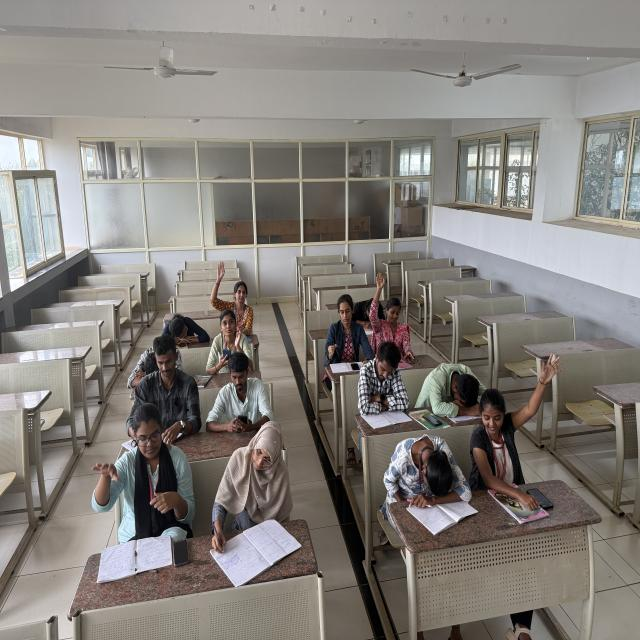Hand Rising: (473, 333, 581, 476), (208, 248, 268, 339), (371, 266, 428, 344)
Reading: (127, 413, 174, 549), (361, 344, 413, 430)
Sleeping: (381, 415, 471, 500), (426, 318, 492, 416), (119, 328, 185, 391), (152, 304, 212, 356), (344, 293, 384, 328)
Using Phone: (193, 345, 274, 440), (206, 306, 254, 369)
Writing: (204, 426, 314, 570), (322, 289, 351, 374)
